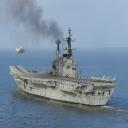Portanaves: (10, 27, 119, 109)
